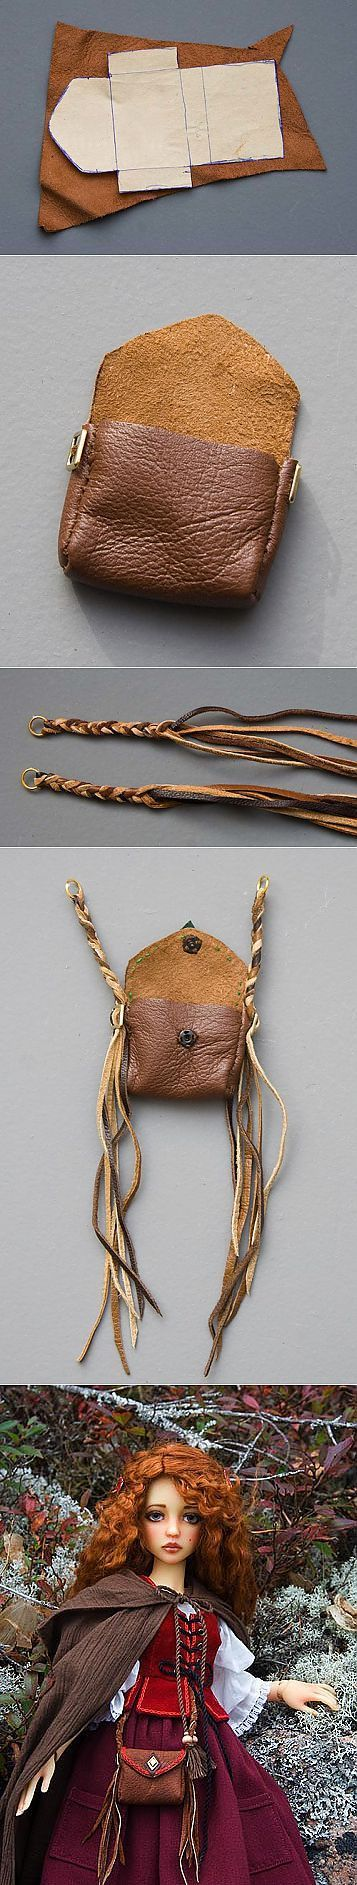cuero: (30, 316, 357, 1381)
